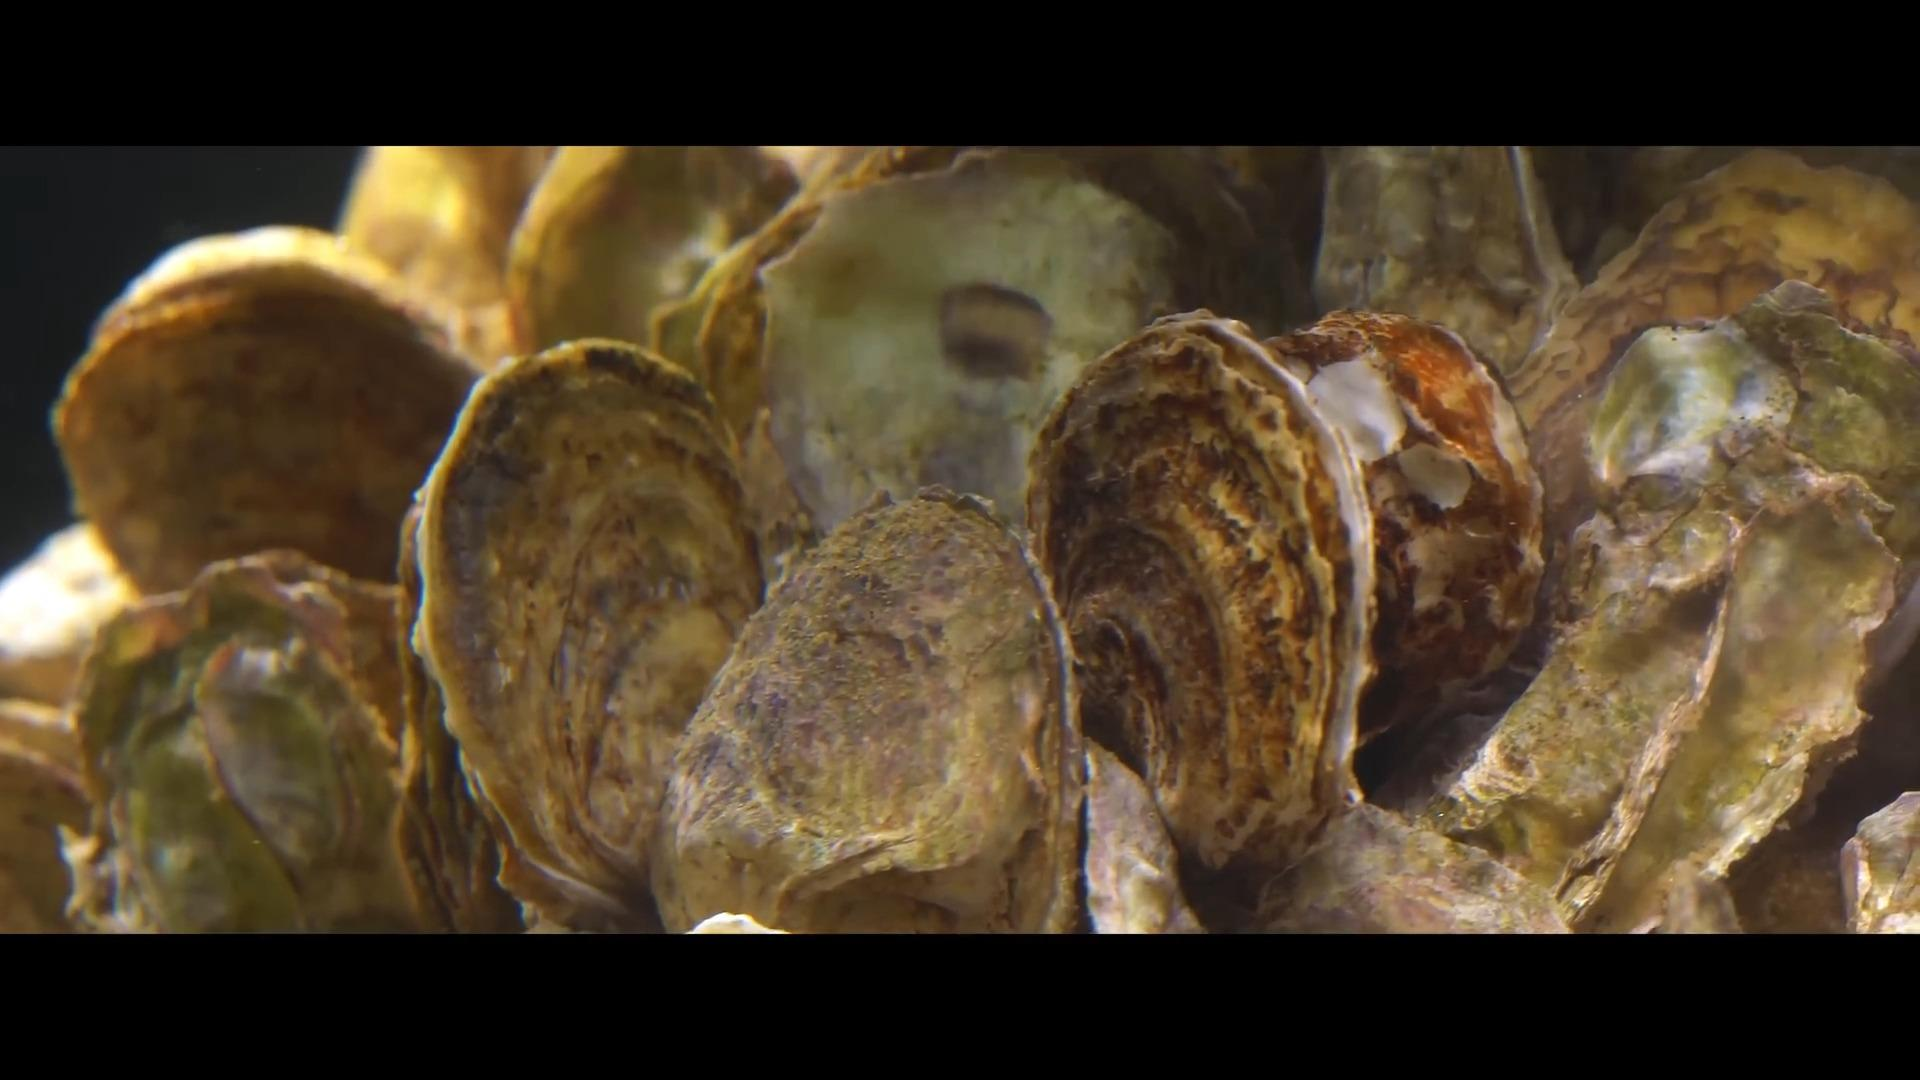Oyster: (1403, 287, 1912, 935), (1042, 309, 1538, 881), (397, 340, 769, 931), (731, 149, 1257, 550), (655, 489, 1088, 934), (1506, 156, 1916, 555), (54, 228, 477, 593), (61, 553, 450, 932), (510, 144, 798, 378), (1313, 145, 1577, 378), (336, 145, 546, 357), (0, 517, 136, 711), (0, 723, 102, 932)
